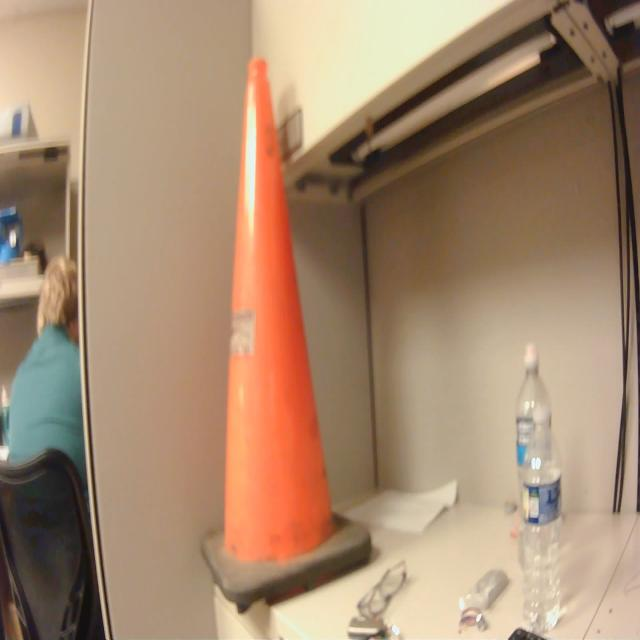traffic cone: (198, 54, 377, 618)
